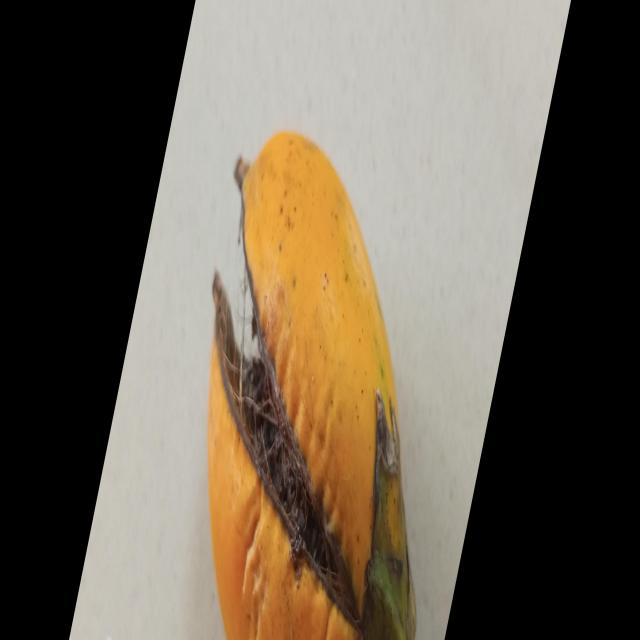damaged: (208, 132, 416, 640)
